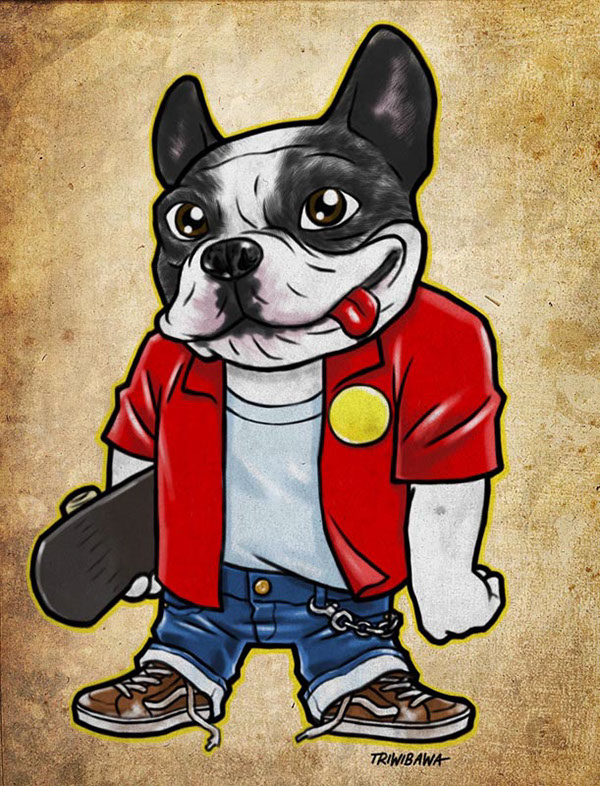dog: (29, 8, 528, 755)
